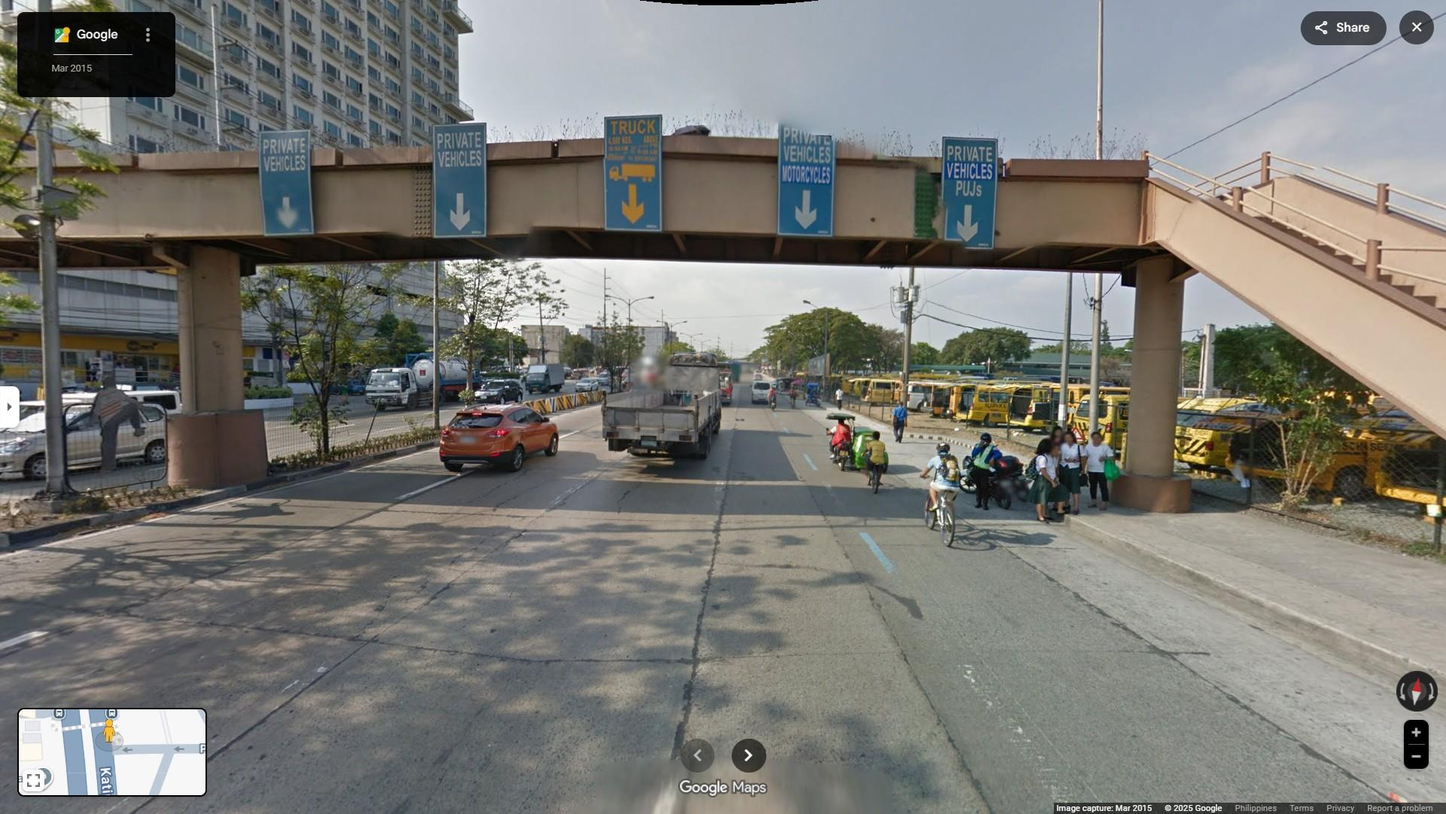cyclist: (919, 441, 962, 549), (862, 430, 886, 495), (788, 384, 797, 411)
pedestrian: (1082, 432, 1122, 513), (1029, 442, 1070, 516), (1052, 432, 1086, 516), (1024, 438, 1054, 523), (972, 433, 1003, 510), (1048, 425, 1070, 499), (891, 401, 908, 443), (804, 387, 818, 407), (835, 386, 844, 411)
